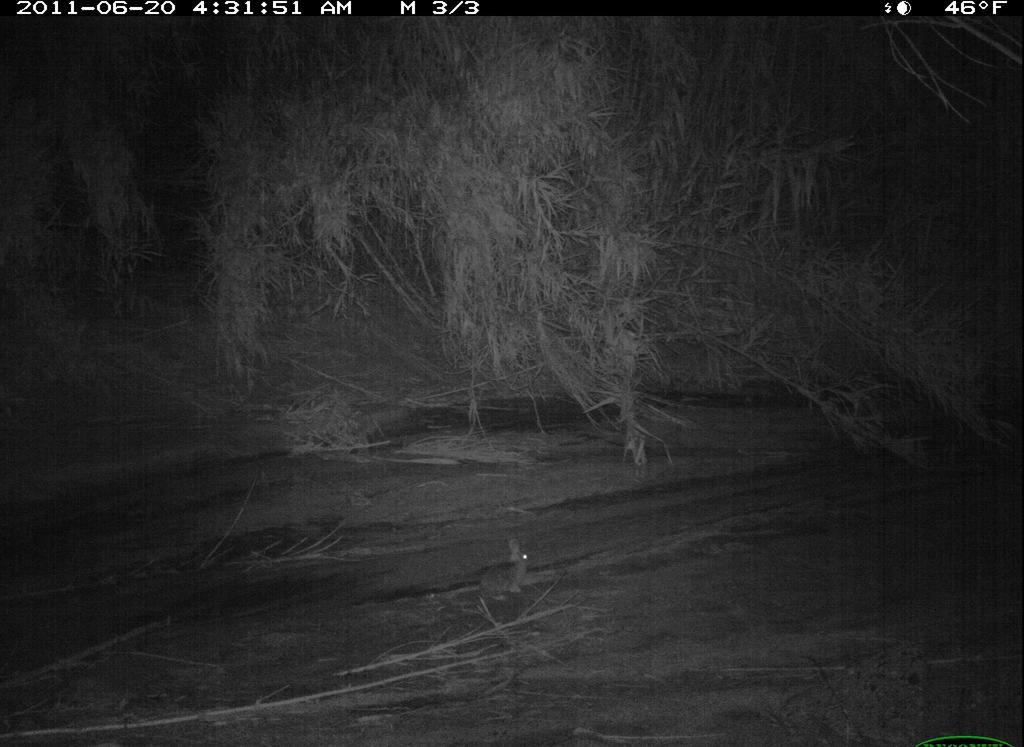rabbit: (468, 527, 542, 610)
